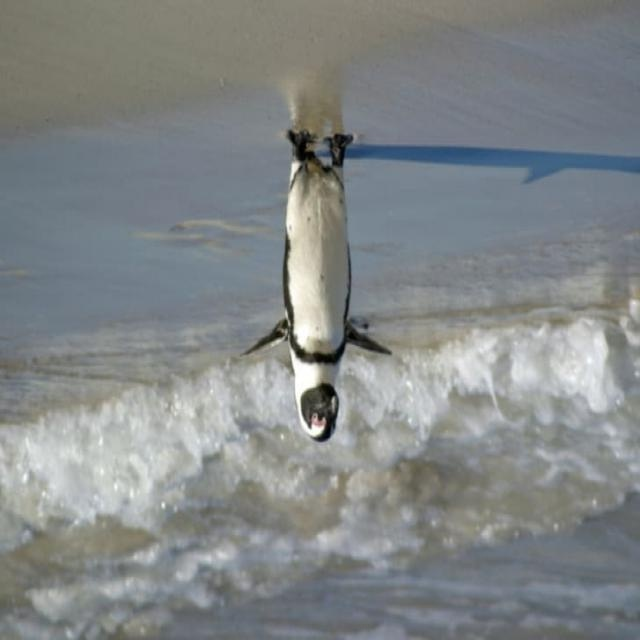penguin: (238, 129, 392, 443)
